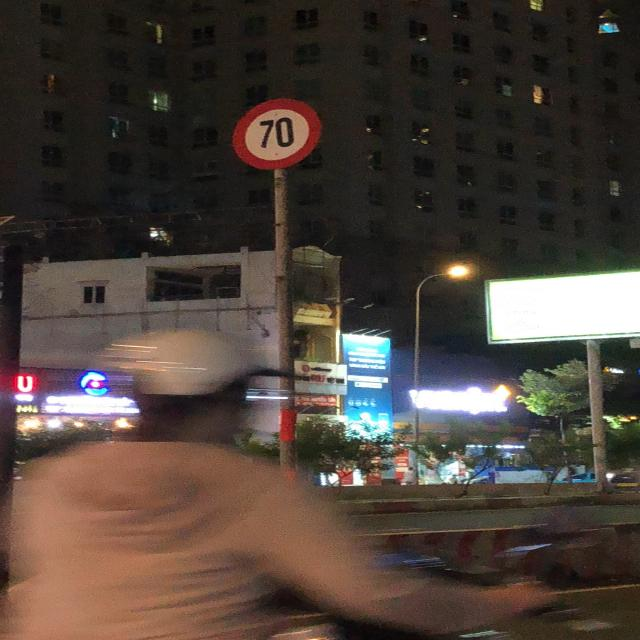Bien bao toc do toi da cho phep: (228, 98, 324, 174)
